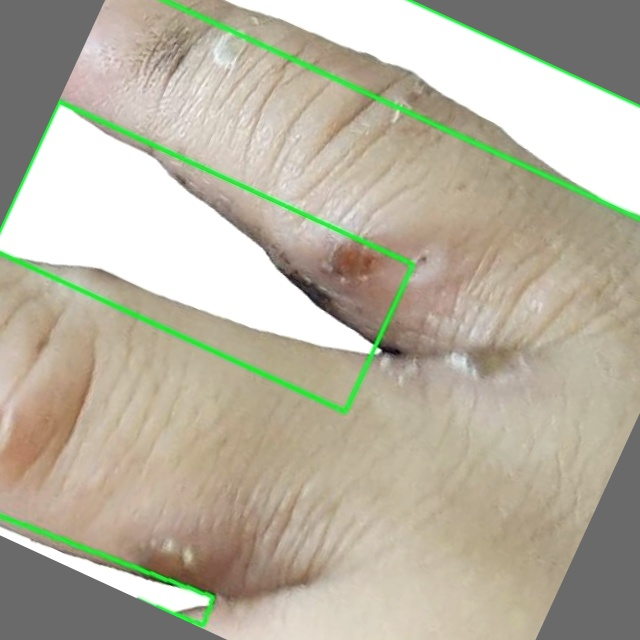Scabies: (0, 101, 413, 411), (0, 516, 213, 625)
